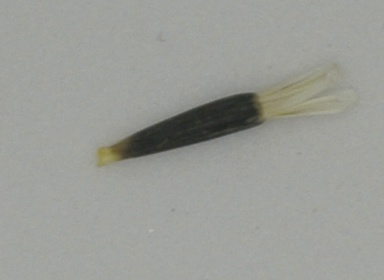เมล็ดดีติดกัน: (95, 59, 357, 170)
